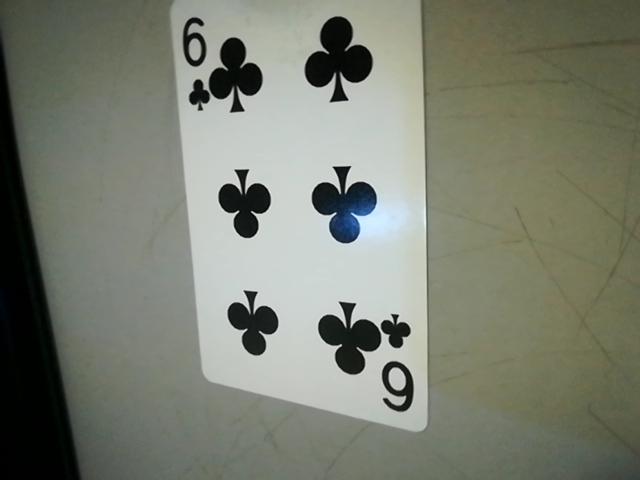mh 6: (372, 311, 427, 422)
